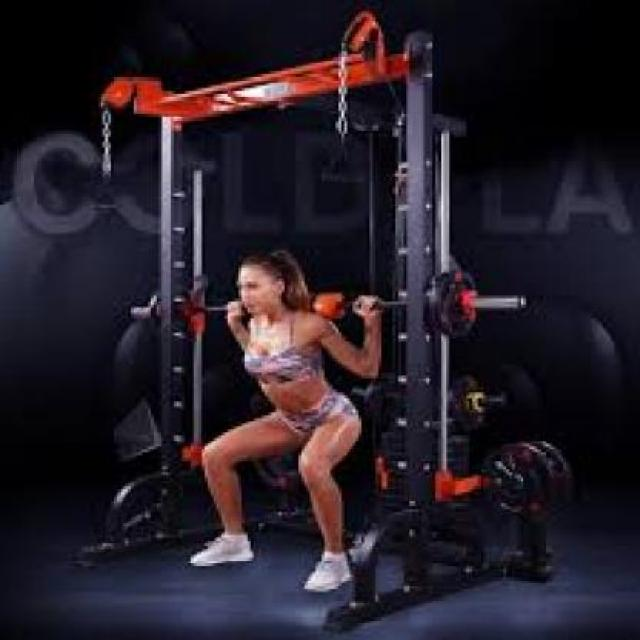smith machine: (79, 12, 566, 630)
